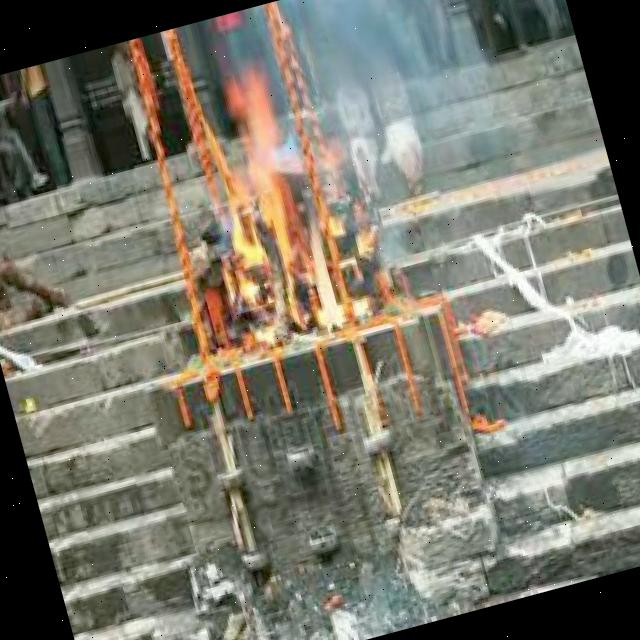fire: (182, 51, 374, 352)
